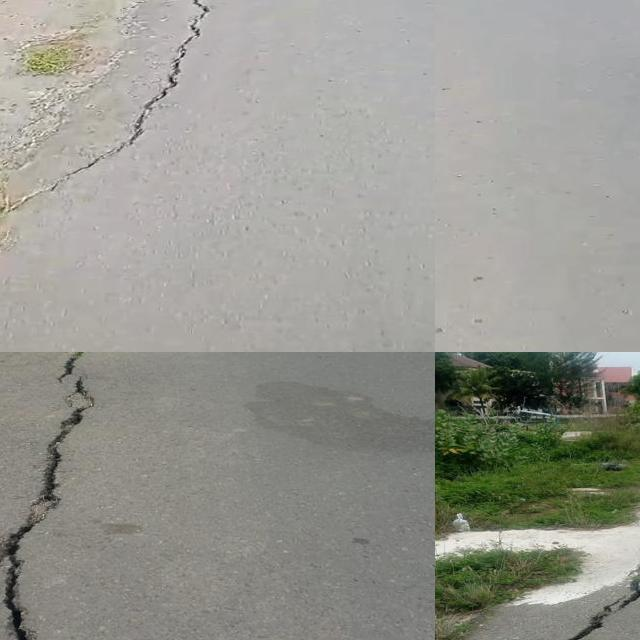Memanjang: (5, 0, 215, 193), (0, 352, 107, 640)
